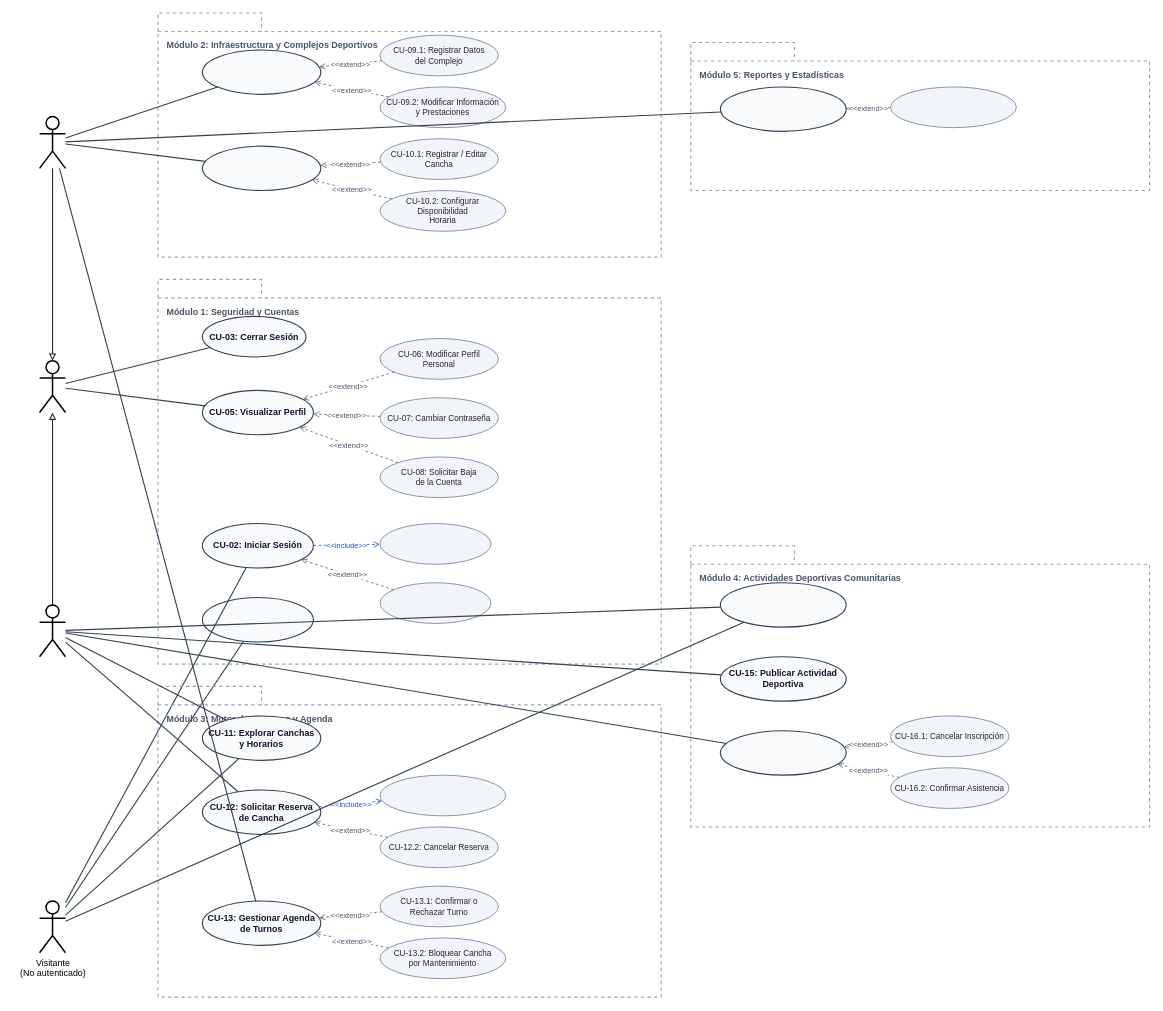
Image size: 1163x1011. Some labels were removed from this diagram. The centre of each missing label's shape, as x and y in pixels:
"CU-01: Registrarse" belongs at point (258, 619).
"CU-02.1: Verificar Credenciales" belongs at point (435, 543).
"CU-04: Recuperar Contraseña" belongs at point (435, 602).
"CU-09: Gestionar Perfil Comercial" belongs at point (261, 72).
"CU-10: Administrar Canchas" belongs at point (261, 168).
"CU-12.1: Validar Disponibilidad de Turno" belongs at point (442, 795).
"CU-14: Consultar Actividades Abiertas" belongs at point (783, 604).
"CU-16: Inscribirse a Partido Comunitario" belongs at point (783, 752).
"CU-17.1: Analizar Horarios Pico y Demanda" belongs at point (953, 107).
"CU-17: Consultar Reportes de Ocupación" belongs at point (783, 109).
"Deportista" belongs at point (52, 630).
"Dueño de Complejo" belongs at point (52, 142).
"Usuario Autenticado (Base)" belongs at point (52, 386).
